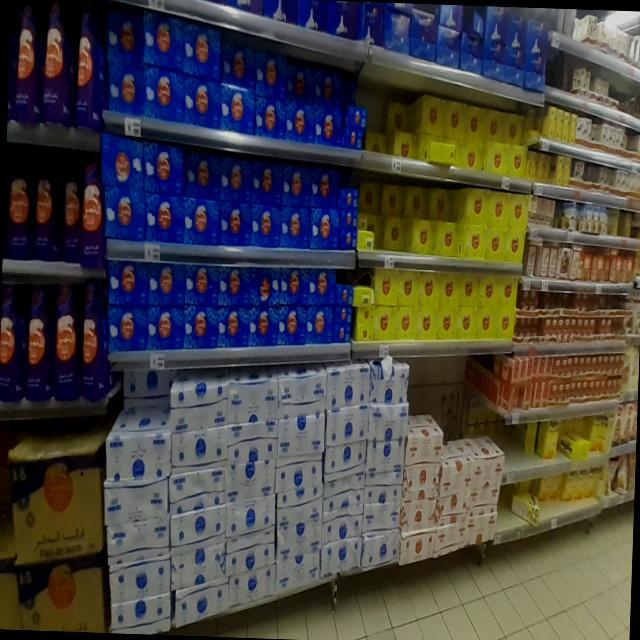produto: (108, 360, 410, 625), (102, 126, 364, 253), (109, 258, 352, 351), (370, 259, 517, 341), (510, 341, 624, 409)
